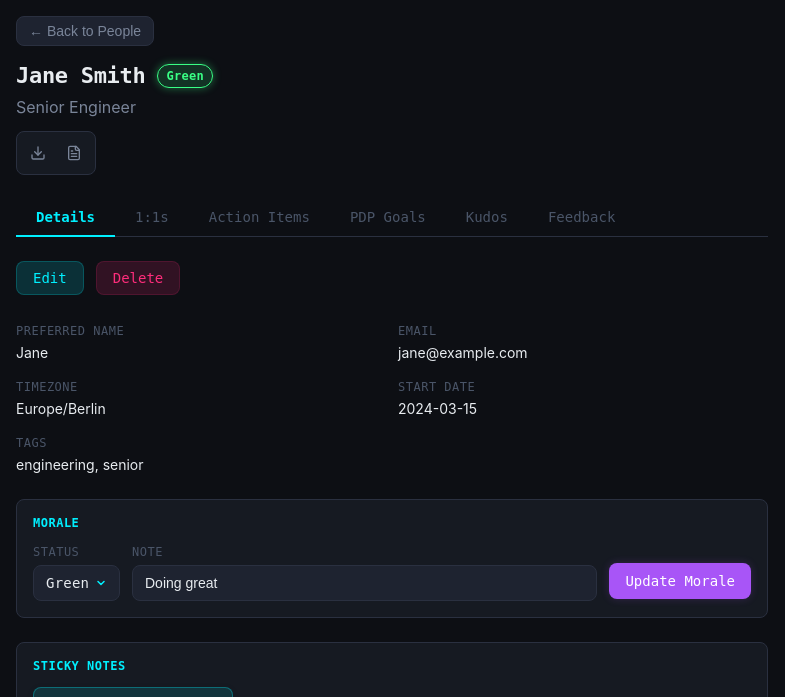
Test: PersonDetailPage - Export Button › should show error message when export fails
The image size is (785, 697).
Click the button with test id "export-button".
click(38, 153)  # box 21,136 -> 55,170
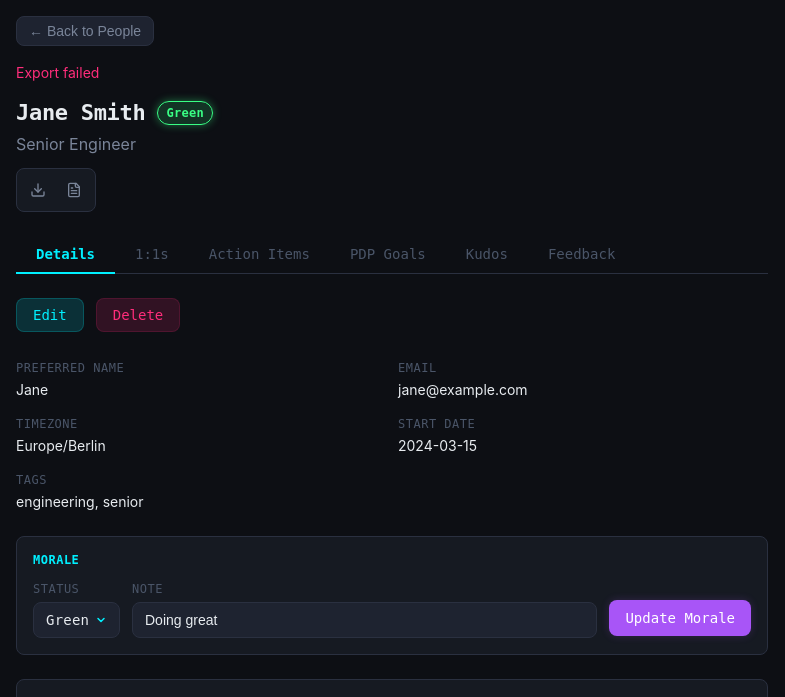
Now the text with test id "error-message" reads "Export failed", box 16,64 -> 99,81
